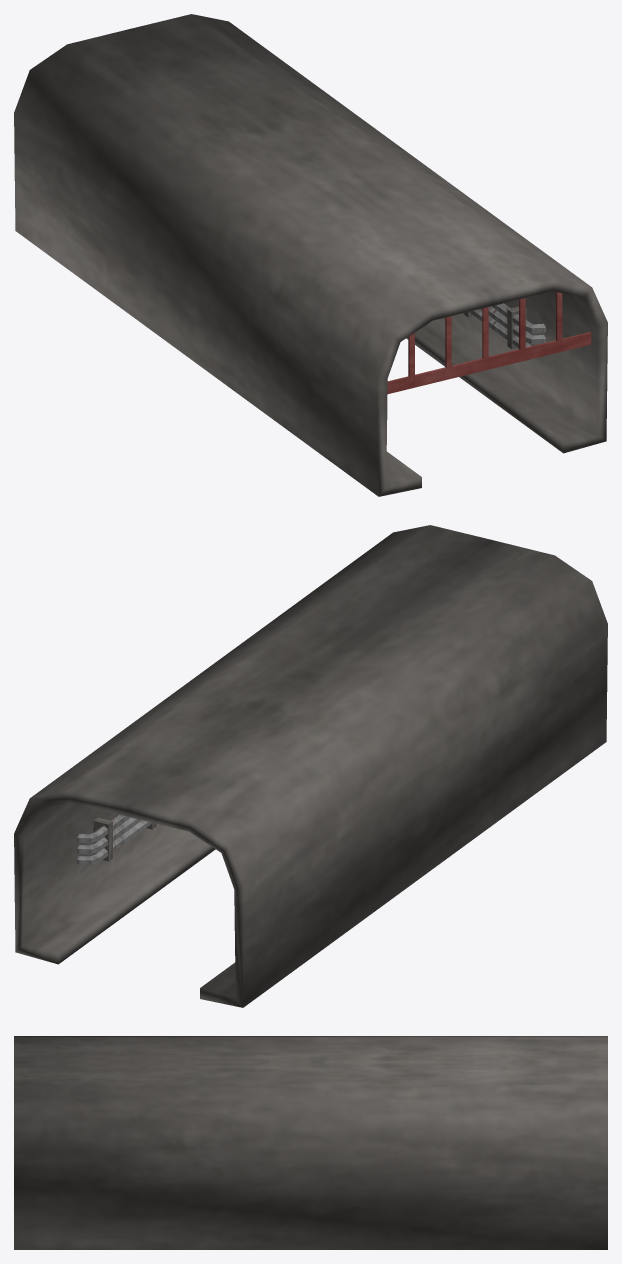
The model's file is Tunnel.fbx.
3 renders of one model, top to bottom at view 1: azimuth 30°, elevation 25°; view 2: azimuth 150°, elevation 25°; view 3: azimuth 270°, elevation 25°, orthographic. The views are drawn at different scales.
Visible parts, largest first — view 1: Plane.001, Plane.002, Cylinder.003; view 2: Plane.001, Cylinder.003; view 3: Plane.001.
Part boxes in pixels (box(x1,y1,x2,y2)): Plane.001: box(14, 14, 607, 496); Plane.002: box(387, 292, 591, 393); Cylinder.003: box(469, 303, 546, 348); Plane.001: box(14, 525, 607, 1007); Cylinder.003: box(77, 814, 151, 865); Plane.001: box(14, 1036, 607, 1249).
Size of the model in its own units: 1466 by 1067 by 4000.
